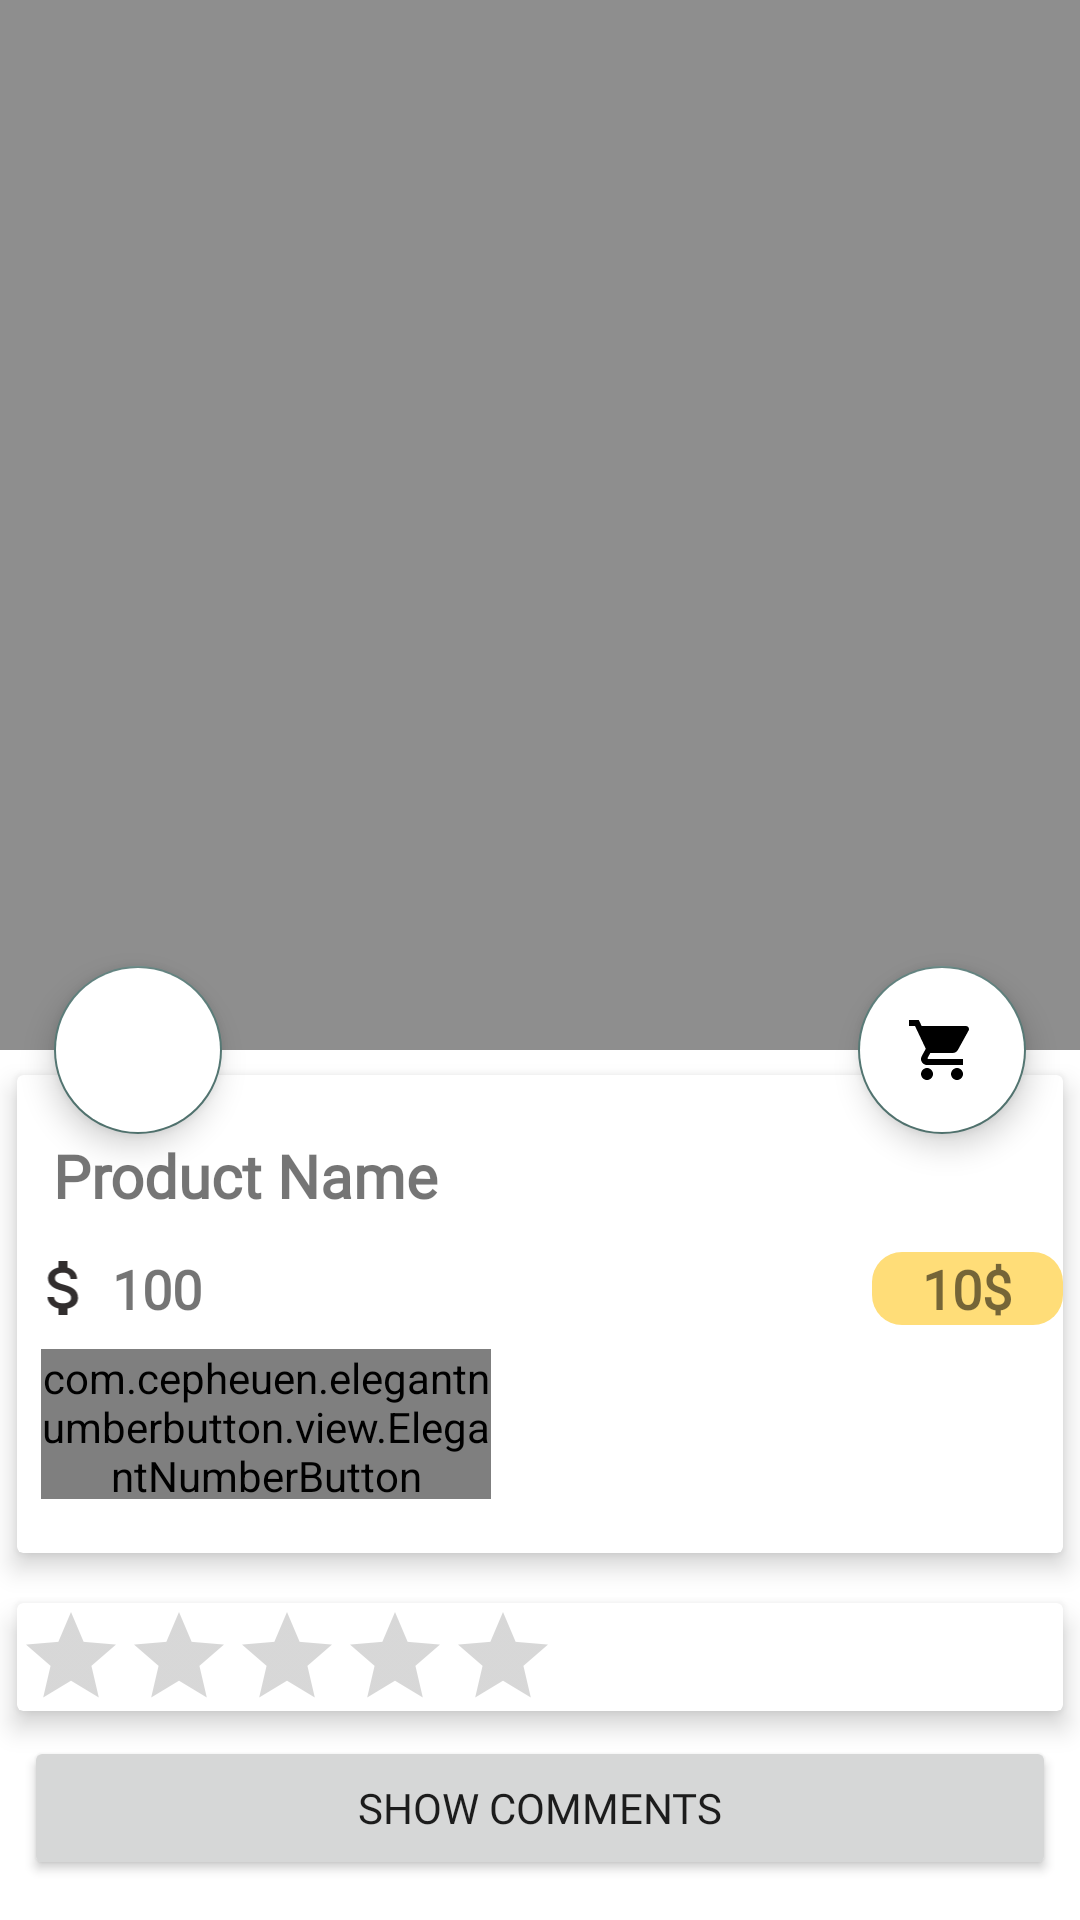

Locate icon controls on the screen. Image size 1080 × 1920, boxes as (x1, y1, x2, y2).
attach money: (47, 1261, 79, 1315)
